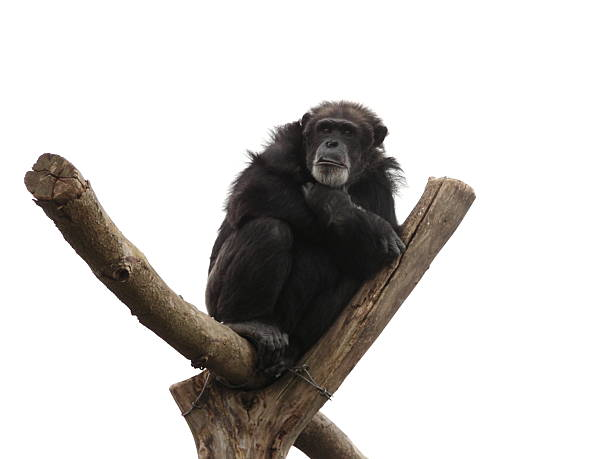chimpanzee: (294, 92, 394, 210)
